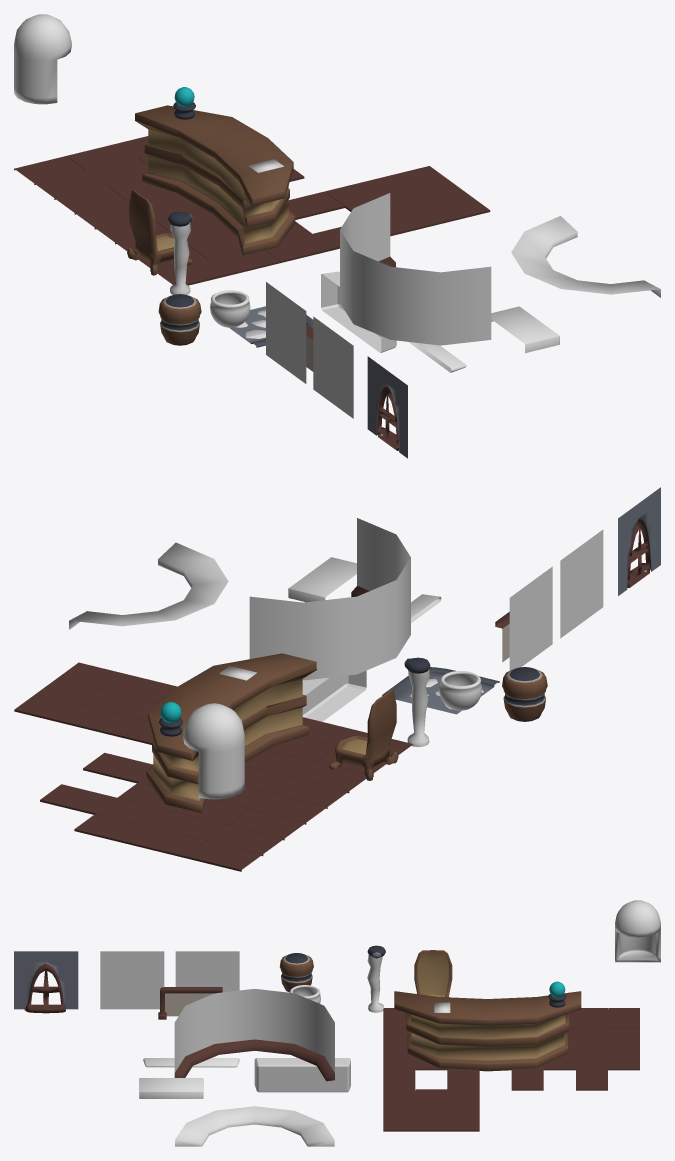
File: Building2.fbx
3 views of the same model, one above another, from view 1: azimuth 30°, elevation 25°; view 2: azimuth 150°, elevation 25°; view 3: azimuth 270°, elevation 25° (orthographic). The views are drawn at different scales.
Parts seen in each view (by area): view 1: Table, WallRound, Ground 1, Ground 2, Ground 3, WallTable, WallRoundLayer, Wall PureColor, Wall Gredient, WindowHole, Shair, Tank (+6 smaller); view 2: WallRound, Table, Ground 1, Ground 2, Ground 3, WallTable, WallRoundLayer, Wall PureColor, Wall Gredient, WindowHole, Shair, GroundCover (+6 smaller); view 3: Table, WallRound, Ground 2, Ground 3, Wall PureColor, WindowHole, WallRoundLayer, Ground 1, GroundCover, WallTable, Wall Gredient, WallRoundSide (+7 smaller).
Boxes of the visible parts, x1,y1,x2,y2 form: Table: [135, 105, 295, 255]; WallRound: [340, 193, 491, 345]; Ground 1: [14, 156, 280, 285]; Ground 2: [67, 136, 344, 262]; Ground 3: [325, 166, 490, 236]; WallTable: [14, 14, 71, 104]; WallRoundLayer: [511, 216, 660, 297]; Wall PureColor: [313, 316, 353, 418]; Wall Gredient: [266, 282, 306, 383]; WindowHole: [367, 356, 407, 458]; Shair: [127, 189, 192, 275]; Tank: [158, 294, 201, 345]; WallRound: [249, 518, 410, 680]; Table: [146, 653, 316, 812]; Ground 1: [152, 717, 412, 871]; Ground 2: [40, 721, 335, 858]; Ground 3: [14, 662, 177, 738]; WallTable: [183, 703, 244, 799]; WallRoundLayer: [69, 542, 228, 629]; Wall PureColor: [560, 529, 603, 638]; Wall Gredient: [509, 566, 552, 670]; WindowHole: [618, 487, 660, 595]; Shair: [328, 689, 398, 780]; GroundCover: [302, 670, 366, 721]; Table: [394, 991, 581, 1071]; WallRound: [174, 989, 334, 1072]; Ground 2: [383, 1028, 639, 1090]; Ground 3: [383, 1089, 479, 1131]; Wall PureColor: [100, 951, 164, 1009]; WindowHole: [14, 951, 78, 1013]; WallRoundLayer: [175, 1106, 334, 1146]; Ground 1: [383, 1008, 639, 1048]; GroundCover: [254, 1058, 350, 1092]; WallTable: [615, 900, 660, 962]; Wall Gredient: [175, 951, 239, 992]; WallRoundSide: [174, 1039, 334, 1081].
Bounding box in the file's own units: 2418 × 1008 × 4030.
